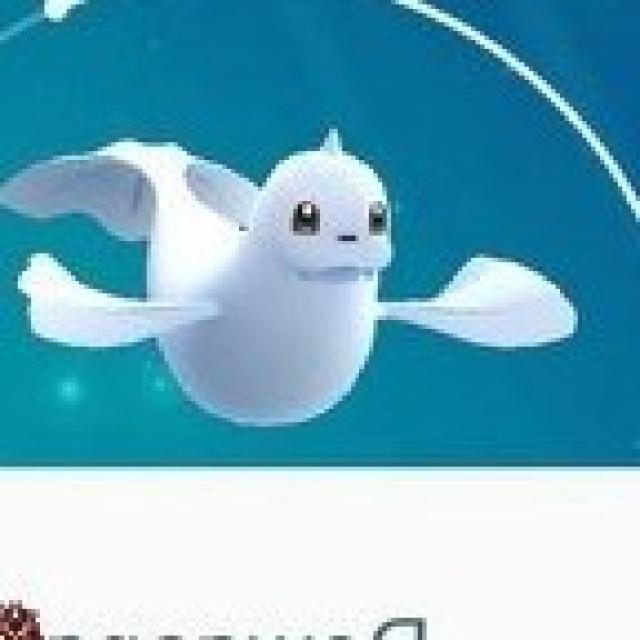Dewgong: (9, 115, 395, 423)
